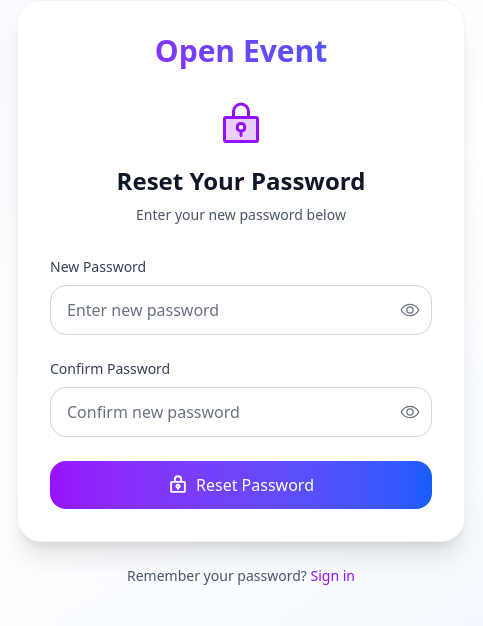
Test: ResetPassword › Password Strength Indicator › should show password requirements info
The image size is (483, 626).
Step 1. Type "StrongPassword1!" into the password field labelled "New Password" → (241, 310), box [50,285,432,335]
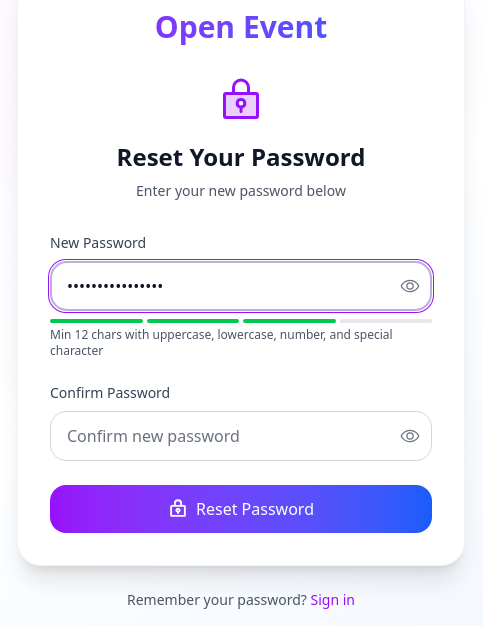
Now the text "uppercase" is shown, box [50,326,393,359]
